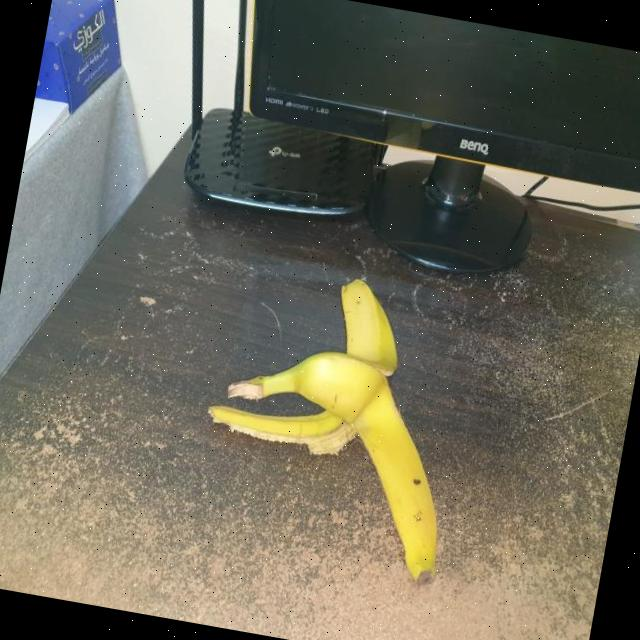banana-peel: (183, 254, 484, 587)
